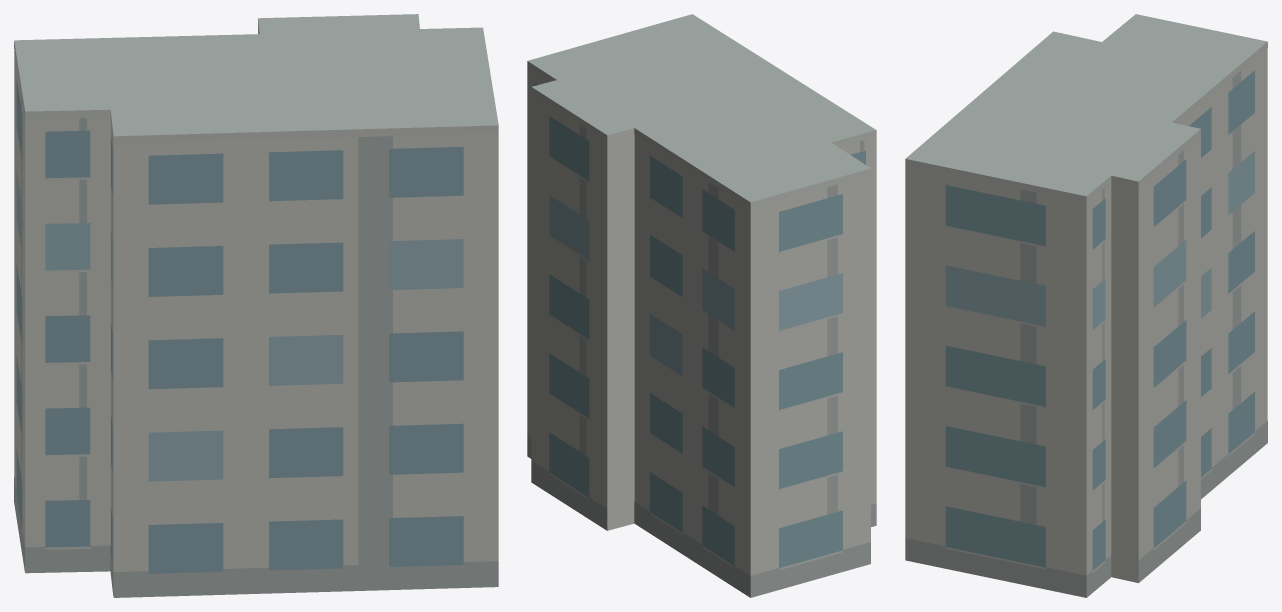
The model's file is survey-upis-32530448.glb.
The picture shows the model from 3 angles, left to right: view 1: azimuth 30°, elevation 25°; view 2: azimuth 150°, elevation 25°; view 3: azimuth 270°, elevation 25°; orthographic projection. The views are drawn at different scales.
Visible parts, largest first — view 1: survey-upis-32530448.tmp; view 2: survey-upis-32530448.tmp; view 3: survey-upis-32530448.tmp.
Boxes of the visible parts, left/top/right/bottom form: survey-upis-32530448.tmp: left=14, top=14, right=498, bottom=597; survey-upis-32530448.tmp: left=527, top=14, right=876, bottom=597; survey-upis-32530448.tmp: left=905, top=14, right=1267, bottom=597.
Bounding box in the file's own units: 14.13 × 14.5 × 11.87.
